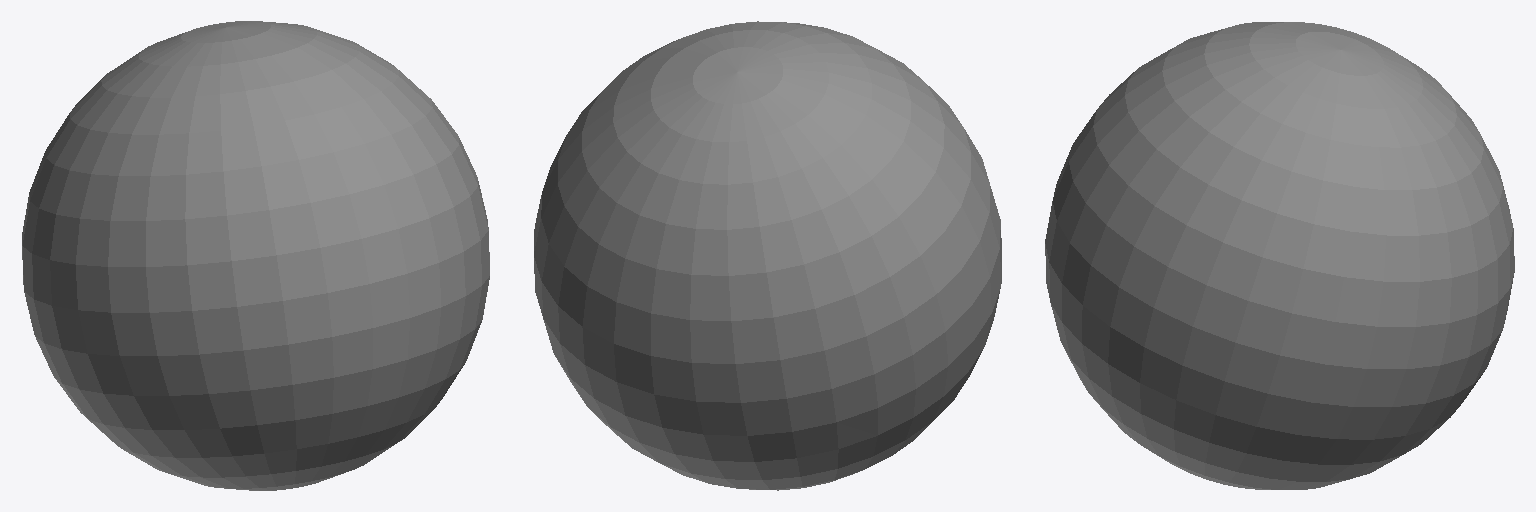
The model's file is mercury.obj.
The picture shows the model from 3 angles: view 1: azimuth 30°, elevation 25°; view 2: azimuth 150°, elevation 25°; view 3: azimuth 270°, elevation 25°; orthographic projection.
Visible parts, largest first — view 1: Mercury_Mesh; view 2: Mercury_Mesh; view 3: Mercury_Mesh.
Part boxes in pixels (left/top/right/bottom): Mercury_Mesh: left=22, top=21, right=489, bottom=490; Mercury_Mesh: left=534, top=21, right=1001, bottom=490; Mercury_Mesh: left=1045, top=22, right=1514, bottom=489.
Size of the model in its own units: 0.4079 by 0.407 by 0.407.